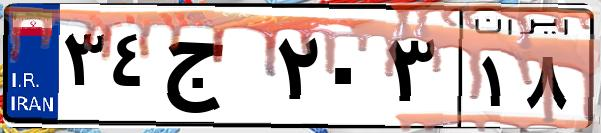0: (330, 28, 385, 110)
1: (475, 38, 525, 113)
2: (270, 28, 330, 110)
3: (385, 28, 445, 110), (57, 26, 110, 100)
4: (110, 28, 158, 98)
8: (525, 38, 570, 115)
ج: (158, 20, 270, 120)
